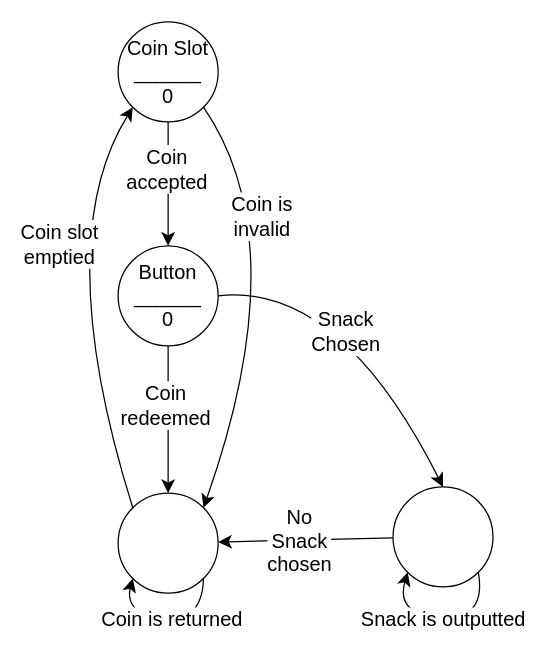
Some shapes in this 548 by 654 pixel diagram are drawn without their labels. The shapes that lost their labels are listed below. From the top down, each one's centre as x and y in pixels, then its label:
At [167,542]: "Coin return ______ 0".
At [442,536]: "Snack ______ 1".
